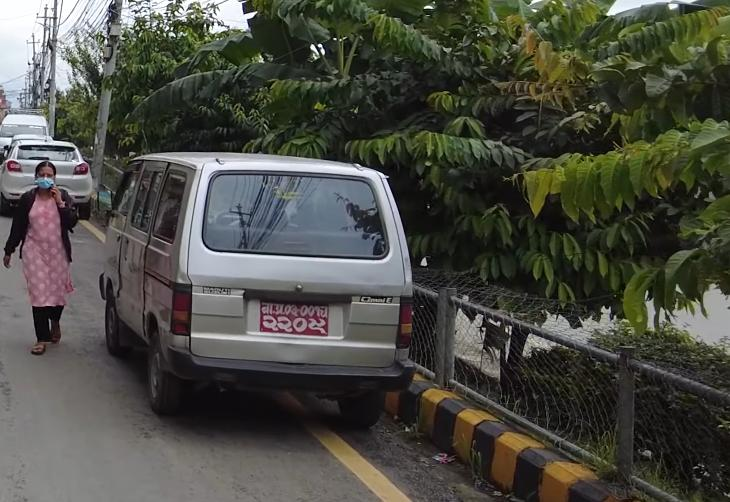van: (96, 148, 421, 437)
